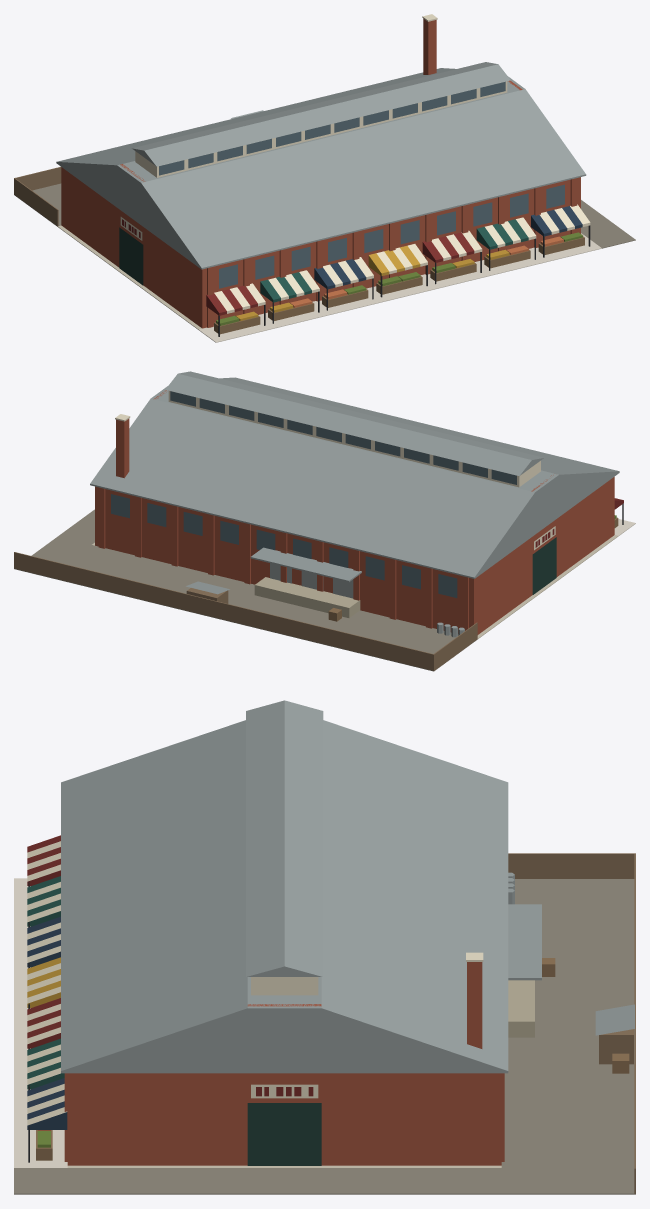
Rendered from mall_b.glb.
3 renders of one model, top to bottom at view 1: azimuth 30°, elevation 25°; view 2: azimuth 150°, elevation 25°; view 3: azimuth 270°, elevation 25°, orthographic. The views are drawn at different scales.
Visible parts, largest first — view 1: mall_b; view 2: mall_b; view 3: mall_b.
Boxes of the visible parts, x1,y1,x2,y2 form: mall_b: [14, 14, 635, 342]; mall_b: [14, 371, 635, 671]; mall_b: [14, 700, 635, 1194].
Bounding box in the file's own units: 48 × 13.91 × 40.
